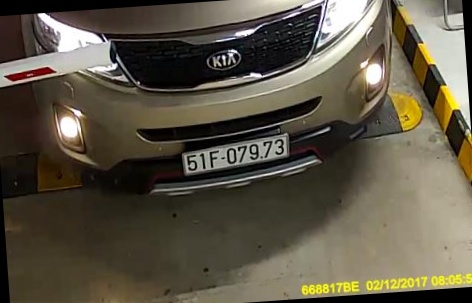plate: (174, 119, 294, 183)
